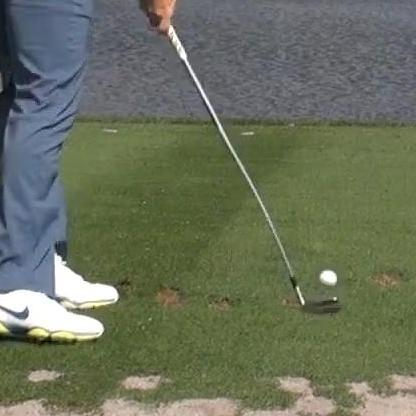golfball: (316, 267, 337, 288)
